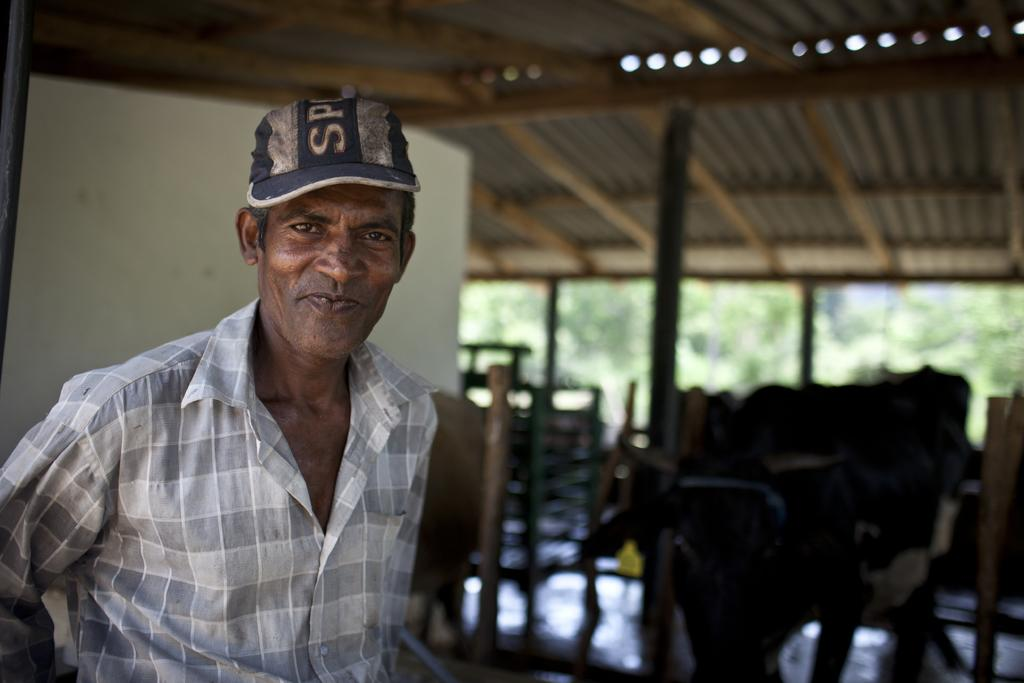Hat: (248, 94, 420, 209)
